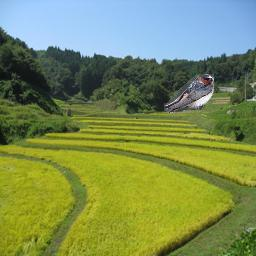Swallow: (164, 74, 214, 114)
